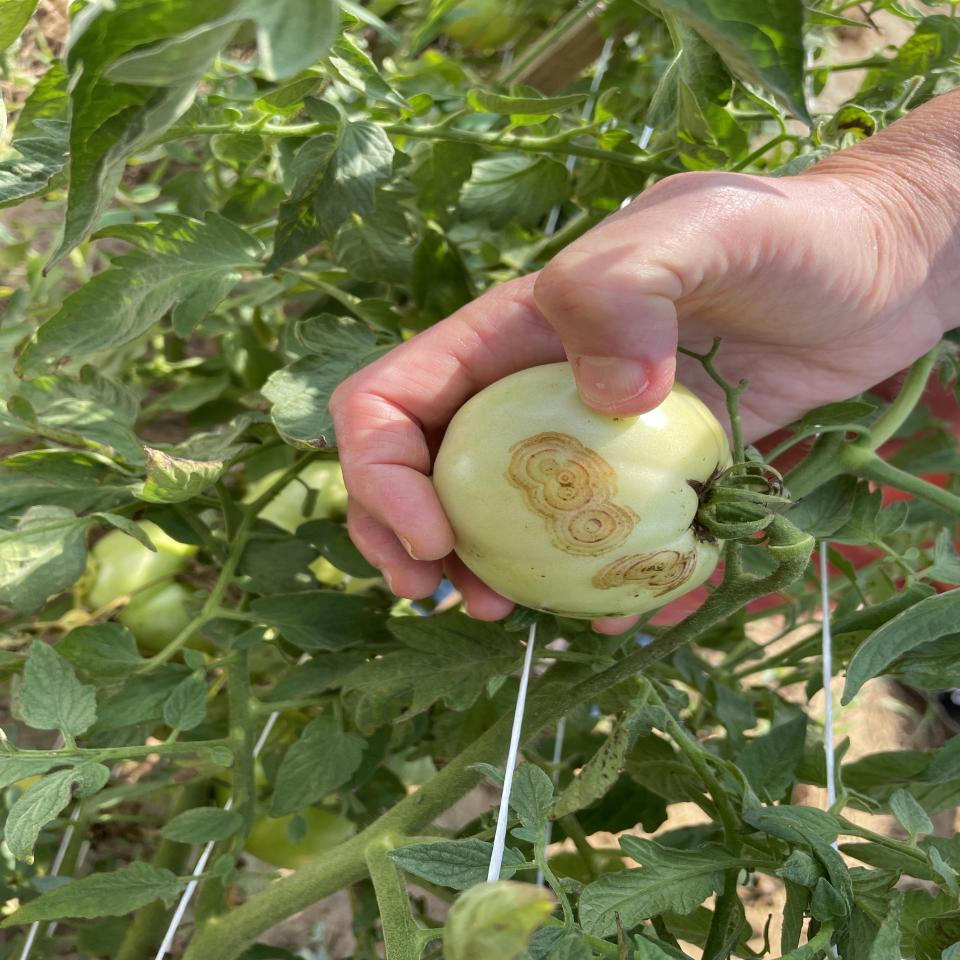Spotted wilt Virus: (426, 358, 758, 624)
